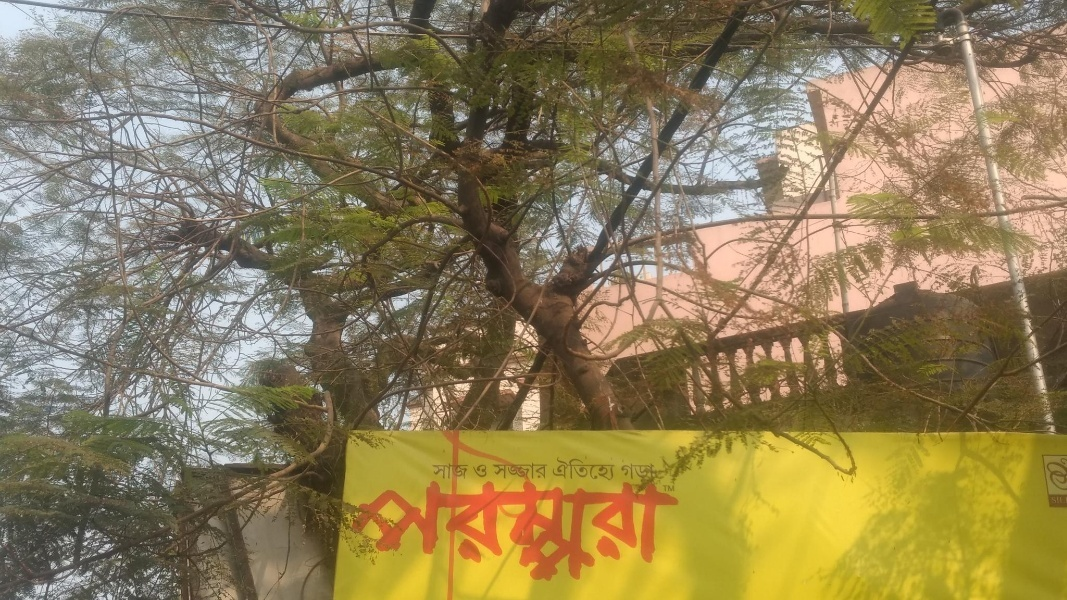text: (353, 470, 368, 588), (369, 470, 384, 588), (385, 470, 400, 588), (401, 470, 416, 588), (417, 470, 432, 588), (433, 470, 448, 588), (449, 470, 464, 588), (465, 470, 480, 588), (481, 470, 496, 588), (497, 470, 512, 588), (513, 470, 528, 588), (529, 470, 544, 588), (545, 470, 560, 588), (561, 470, 576, 588), (577, 470, 592, 588), (593, 470, 608, 588), (609, 470, 624, 588), (625, 470, 640, 588), (641, 470, 656, 588), (657, 470, 672, 588), (673, 470, 679, 588), (561, 457, 576, 481), (577, 457, 592, 481), (593, 457, 608, 481), (433, 462, 448, 481), (449, 462, 464, 481), (497, 461, 512, 480), (513, 461, 528, 480), (529, 461, 544, 480), (625, 462, 640, 480), (641, 462, 656, 480), (350, 470, 352, 588), (551, 457, 560, 481), (609, 457, 617, 481), (472, 463, 480, 478), (481, 463, 487, 478), (619, 462, 624, 480), (428, 462, 432, 481), (465, 462, 469, 481), (545, 461, 548, 480), (494, 461, 496, 480), (657, 462, 659, 480)
